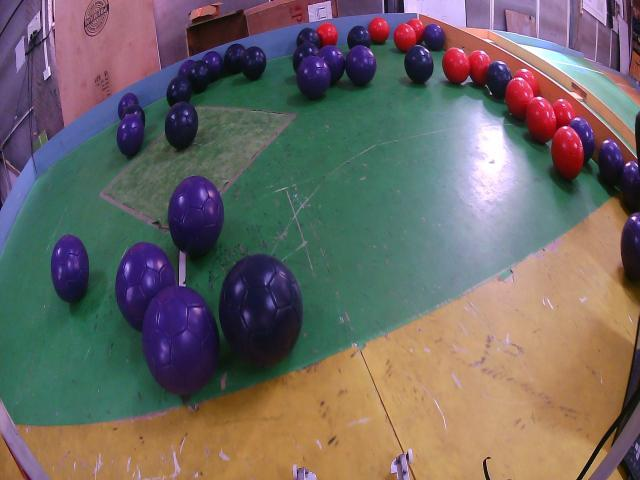jambhalya: (142, 287, 220, 395), (115, 242, 175, 332), (168, 175, 224, 257), (50, 235, 89, 302), (296, 55, 330, 100), (345, 45, 376, 87), (116, 113, 144, 157), (599, 140, 624, 187), (569, 117, 595, 162), (316, 45, 345, 84), (620, 162, 640, 212), (202, 52, 222, 81), (424, 23, 445, 50), (118, 92, 139, 117), (178, 60, 195, 78)
kaalyya: (219, 253, 302, 368), (165, 102, 199, 150), (621, 212, 640, 282), (404, 45, 434, 83), (486, 60, 512, 98), (240, 47, 266, 80), (166, 75, 192, 107), (292, 42, 319, 72), (189, 60, 211, 93), (224, 43, 245, 73), (121, 103, 145, 126), (348, 25, 371, 48), (296, 28, 321, 48)
